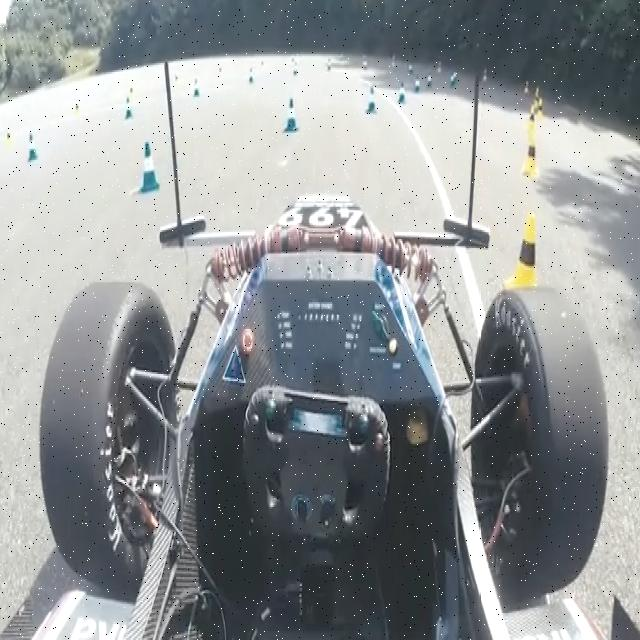blue_cone: (138, 140, 160, 196), (283, 98, 299, 134), (366, 85, 378, 116), (27, 132, 37, 164), (397, 81, 407, 108), (123, 96, 133, 120), (248, 64, 258, 86), (192, 76, 200, 97), (415, 75, 421, 95), (449, 75, 455, 91), (293, 61, 299, 77), (428, 73, 433, 92), (453, 68, 458, 86)
yellow_cone: (500, 206, 542, 302), (524, 134, 540, 180), (526, 104, 536, 137), (72, 101, 82, 128), (533, 89, 541, 118), (536, 98, 544, 124), (6, 128, 14, 149), (128, 84, 136, 104), (175, 72, 181, 94), (260, 56, 266, 78), (524, 80, 530, 100), (218, 66, 224, 86)
